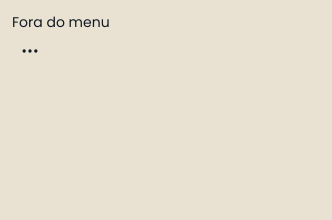
ActionMenu › closes on an outside click
This screenshot has width=332, height=220.
Click the button named "Mais ações" at [30, 51], box [12,33,48,69]
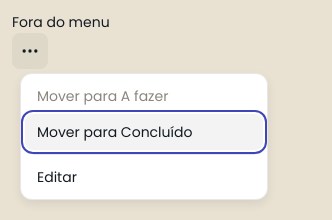
Click the text "Fora do menu" at [61, 22], box [12,12,110,32]
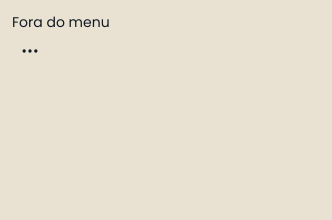
Now the menu is gone
